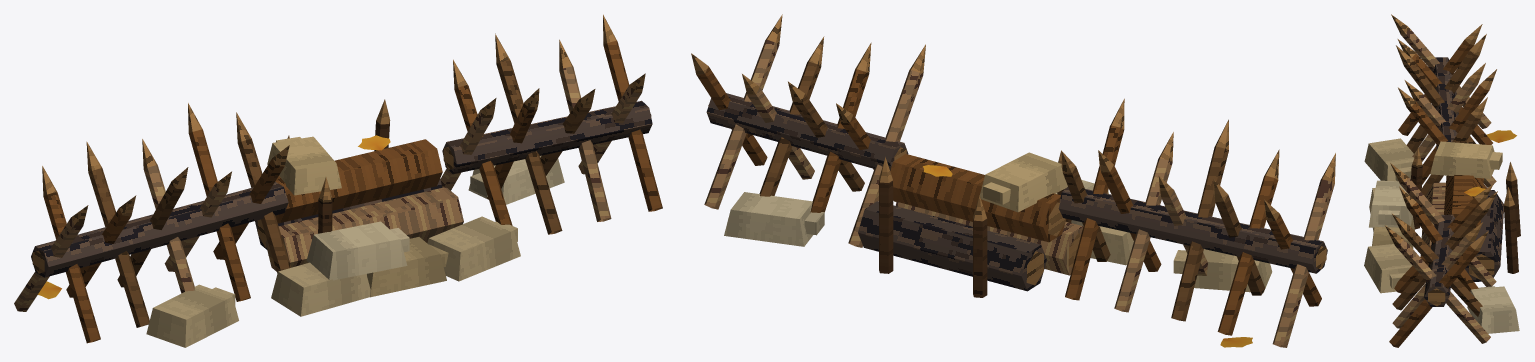
Rendered from barricade.glb.
3 renders of one model, left to right at view 1: azimuth 30°, elevation 25°; view 2: azimuth 150°, elevation 25°; view 3: azimuth 270°, elevation 25°, orthographic. The views are drawn at different scales.
Parts seen in each view (by area): view 1: barricade; view 2: barricade; view 3: barricade.
Boxes of the visible parts, x1,y1,x2,y2 form: barricade: [14, 14, 662, 347]; barricade: [691, 14, 1335, 347]; barricade: [1364, 14, 1520, 347].
Size of the model in its own units: 5.51 by 1.41 by 1.58.
Materials: 10 (9 with a texture image).
